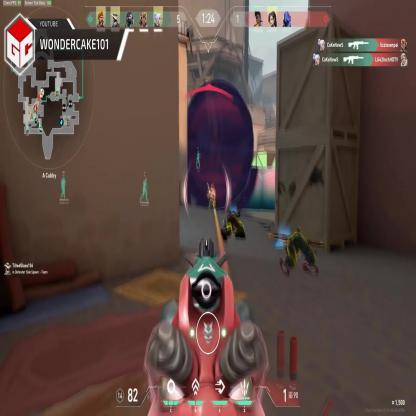enemy: (208, 180, 217, 210)
enemy_head: (211, 182, 214, 192)
